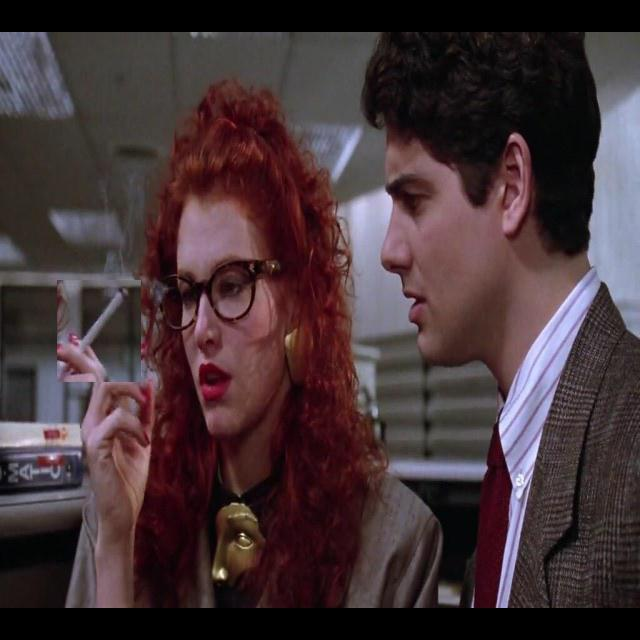smoking: (57, 280, 141, 382)
